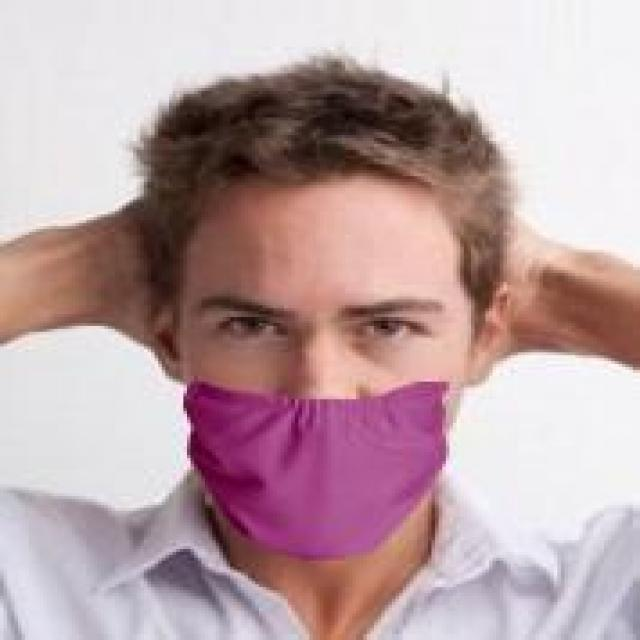mask: (104, 82, 594, 578)
